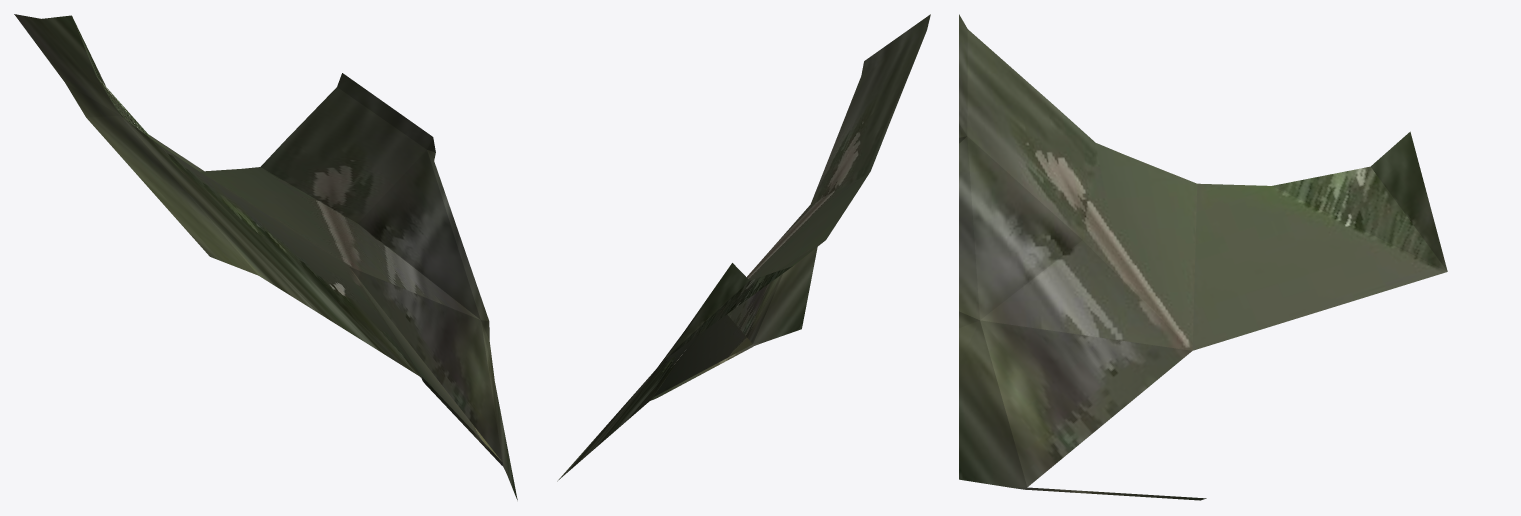
The picture shows the model from 3 angles, left to right: view 1: azimuth 30°, elevation 25°; view 2: azimuth 150°, elevation 25°; view 3: azimuth 270°, elevation 25°; orthographic projection. The views are drawn at different scales.
Size of the model in its own units: 1.2 by 2.34 by 2.95.
2 materials, 2 textured.
